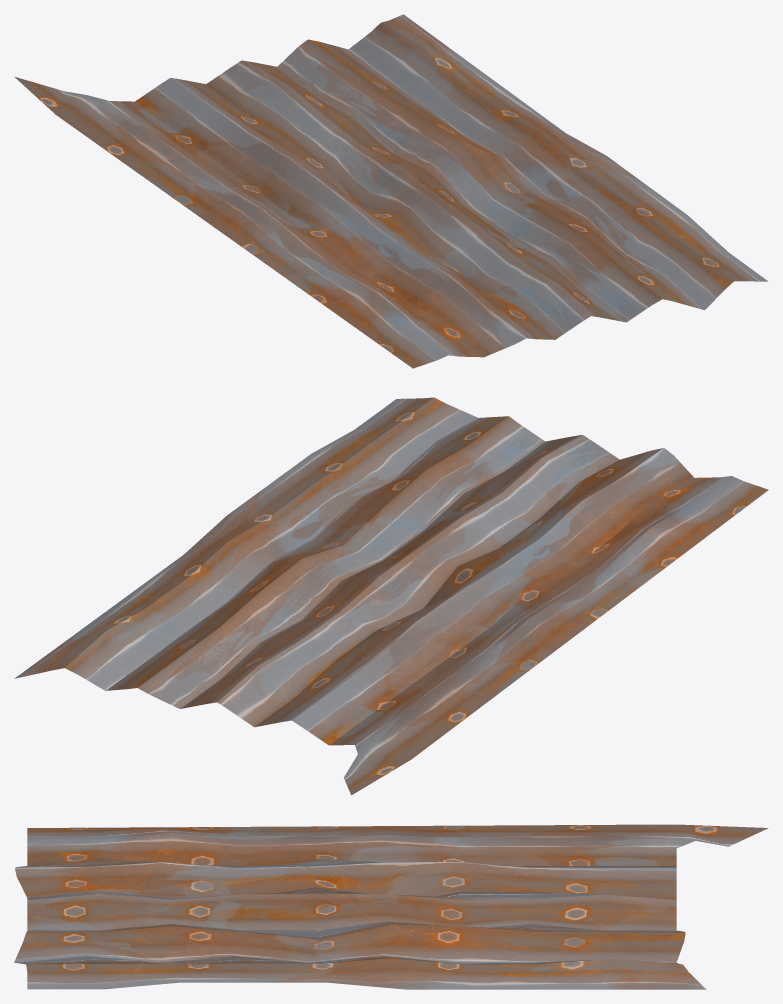
Rendered from metalsheet.fbx.
3 views of the same model, one above another, from view 1: azimuth 30°, elevation 25°; view 2: azimuth 150°, elevation 25°; view 3: azimuth 270°, elevation 25° (orthographic). The views are drawn at different scales.
Parts seen in each view (by area): view 1: Plane.002; view 2: Plane.002; view 3: Plane.002.
Boxes of the visible parts, x1,y1,x2,y2 form: Plane.002: [14, 14, 768, 368]; Plane.002: [14, 397, 768, 795]; Plane.002: [14, 824, 768, 989].
Size of the model in its own units: 267 by 22.11 by 517.
1 material, 1 textured.
